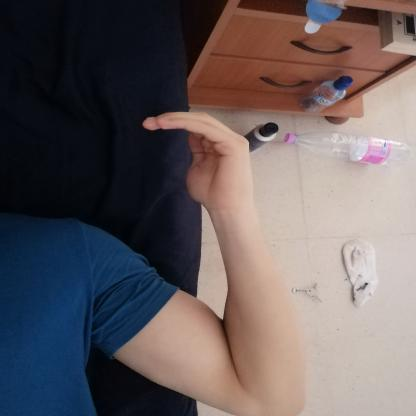HAA: (124, 101, 266, 216)
